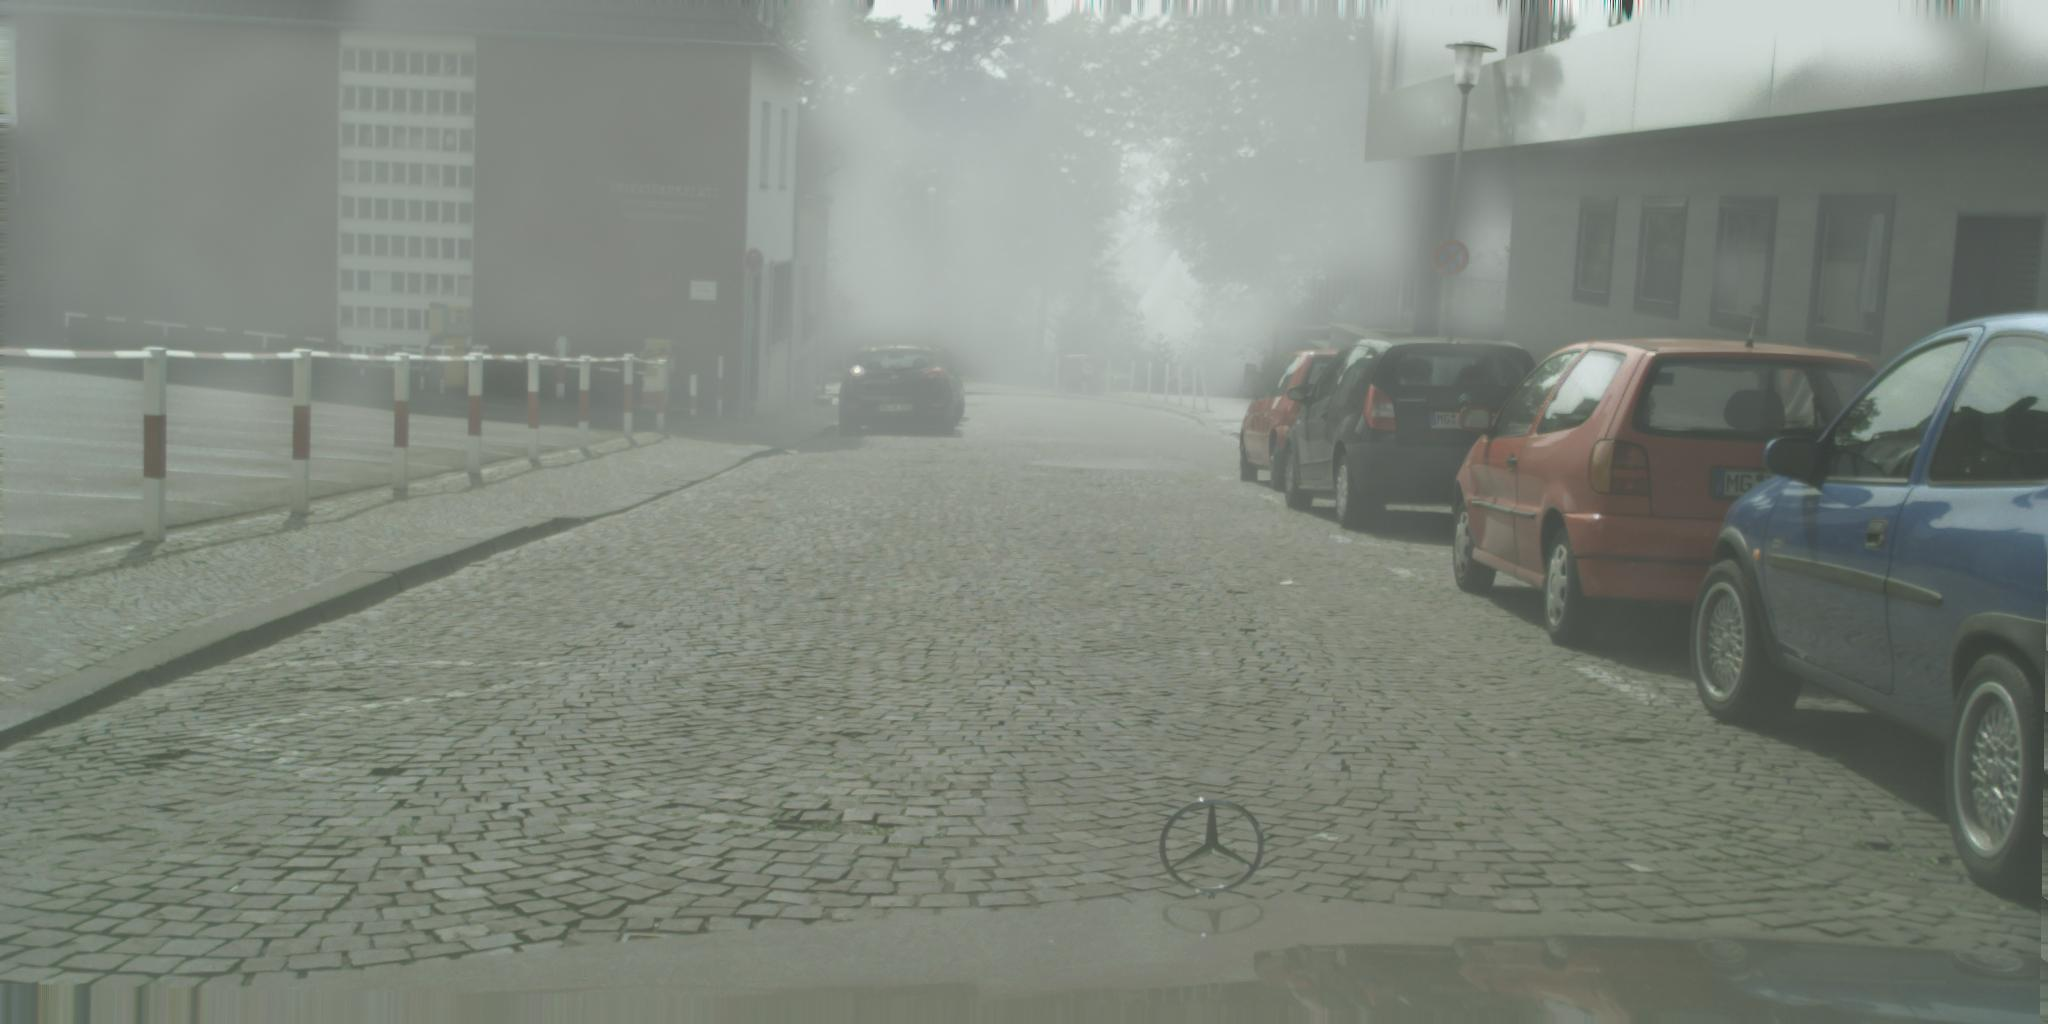car: (1684, 306, 2048, 899), (1452, 319, 1889, 647), (1281, 336, 1545, 528), (1240, 350, 1345, 492), (839, 344, 967, 438)
